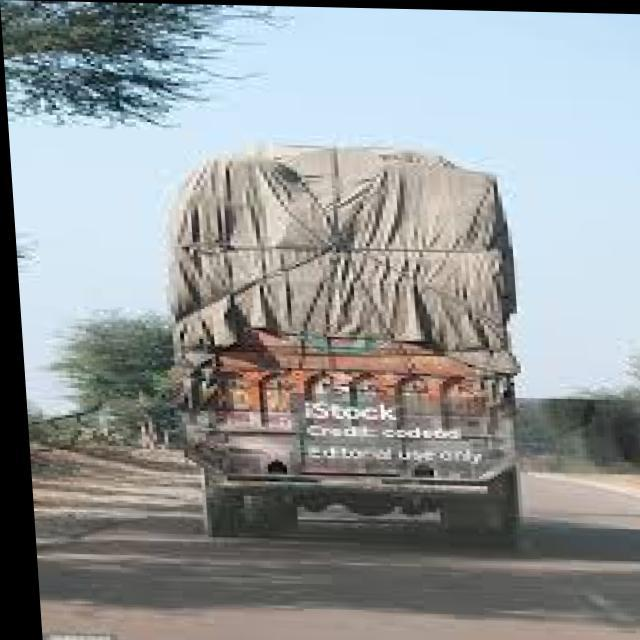covered: (146, 131, 539, 544)
